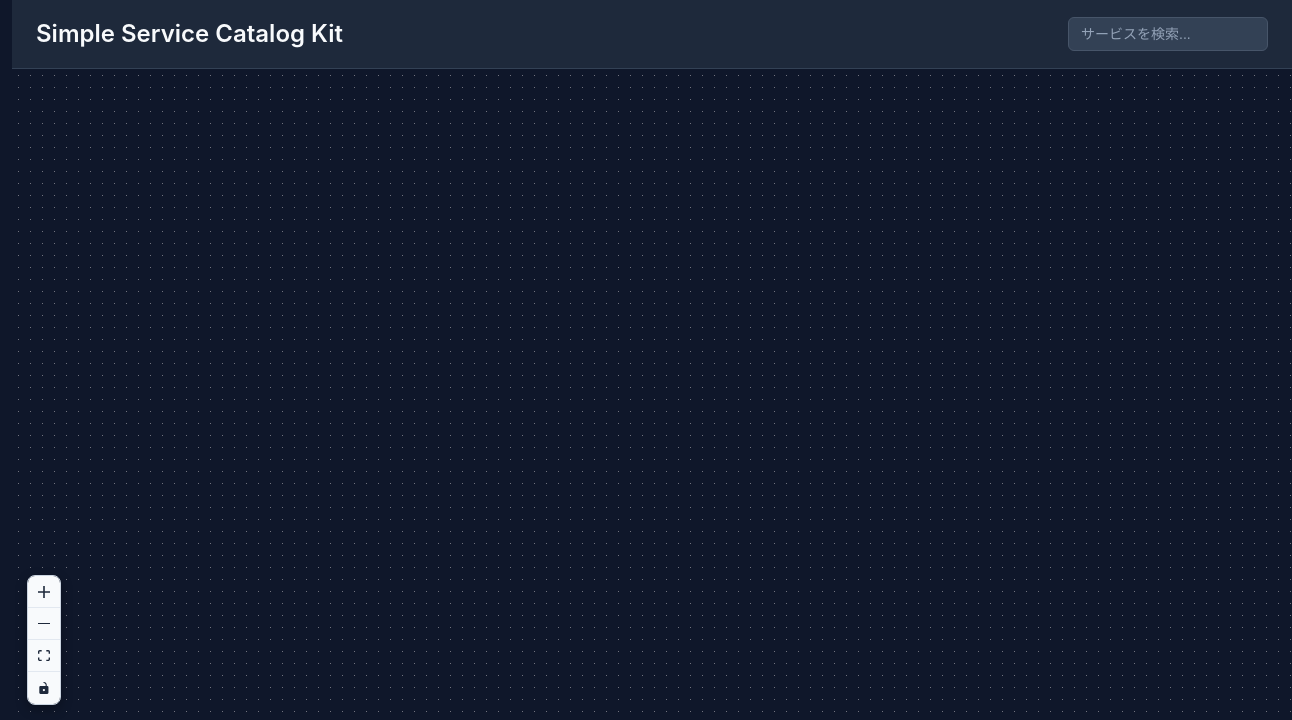
Scenario: Full Integration Test › 検索をクリアできる
Type "payment" into the field with placeholder "サービスを検索..." at (1168, 34), box [1068, 17, 1268, 51]
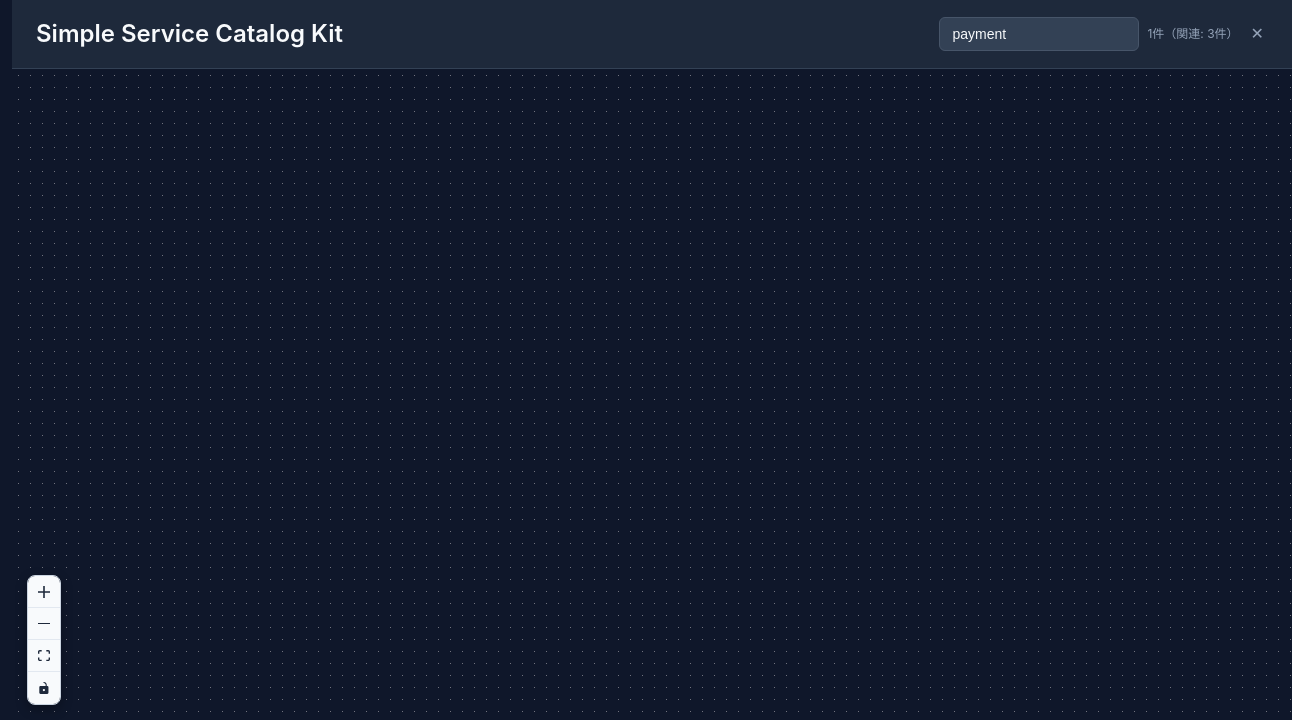
Result: the text "1件" is shown at [1147, 26, 1164, 41]
// クリアボタンをクリック（aria-labelで指定）
Click the button named "クリア" at (1257, 34), box [1247, 22, 1268, 46]
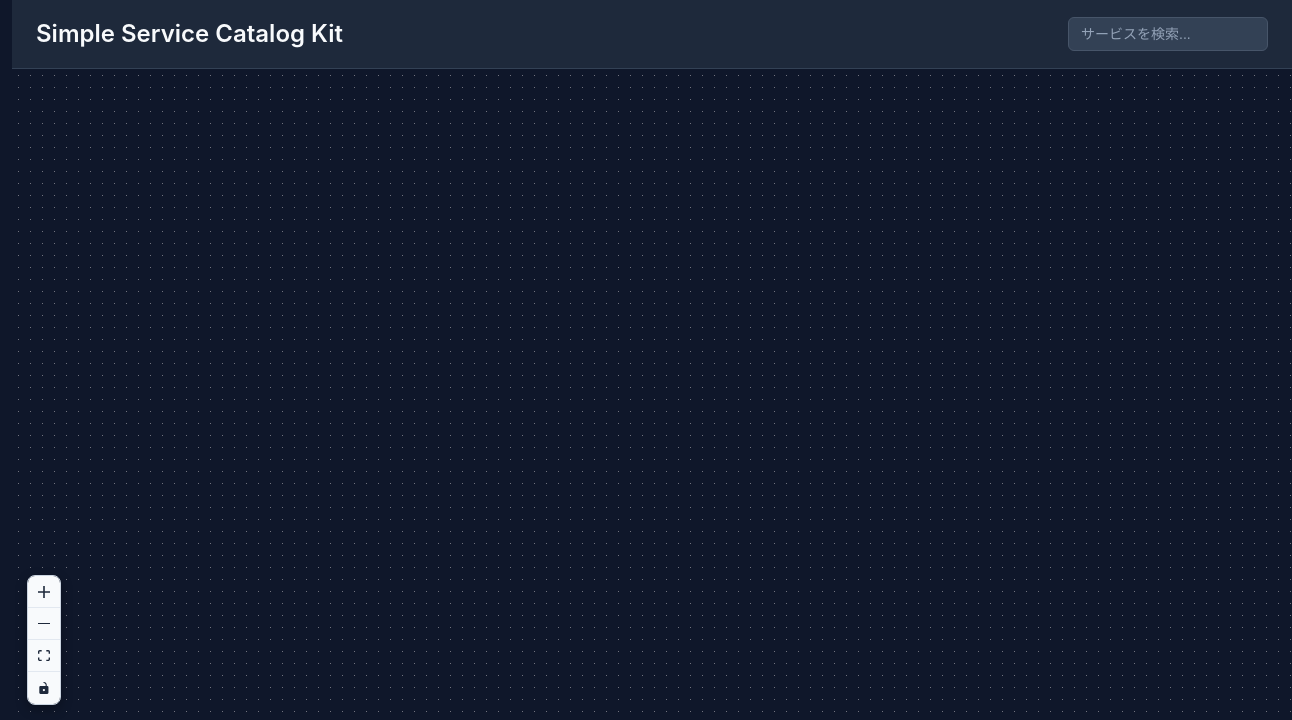
Result: the text "1件" is gone
